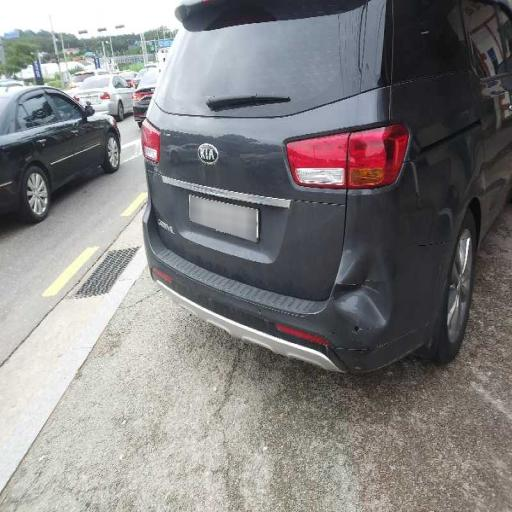dent: (321, 231, 406, 354)
